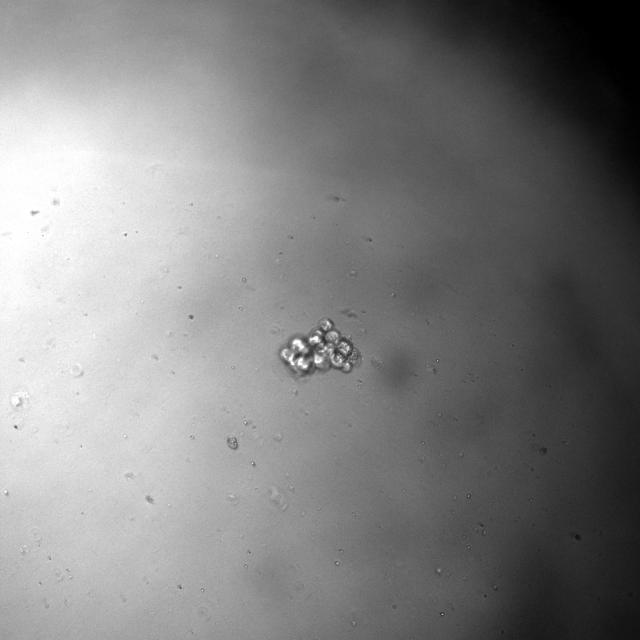organoid: (279, 317, 361, 374)
